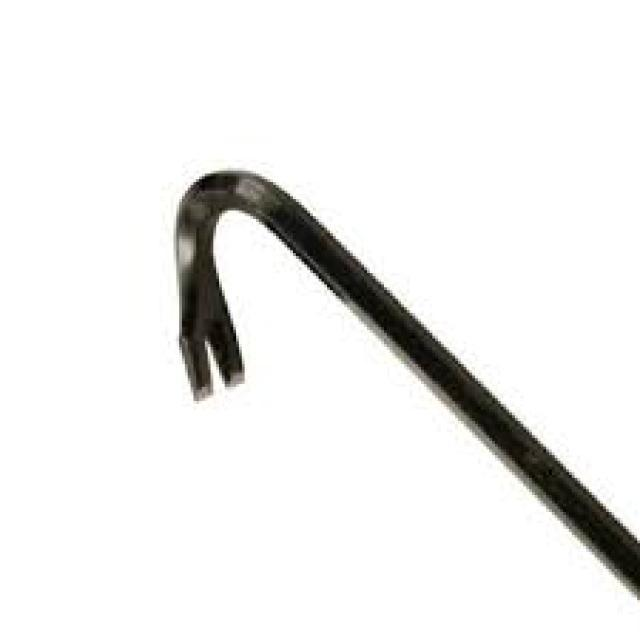Linggis: (165, 165, 640, 611)
